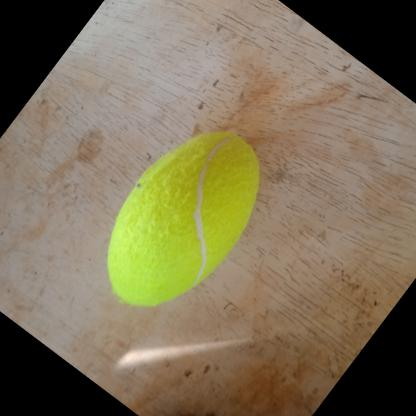Tennis: (68, 96, 294, 340)
